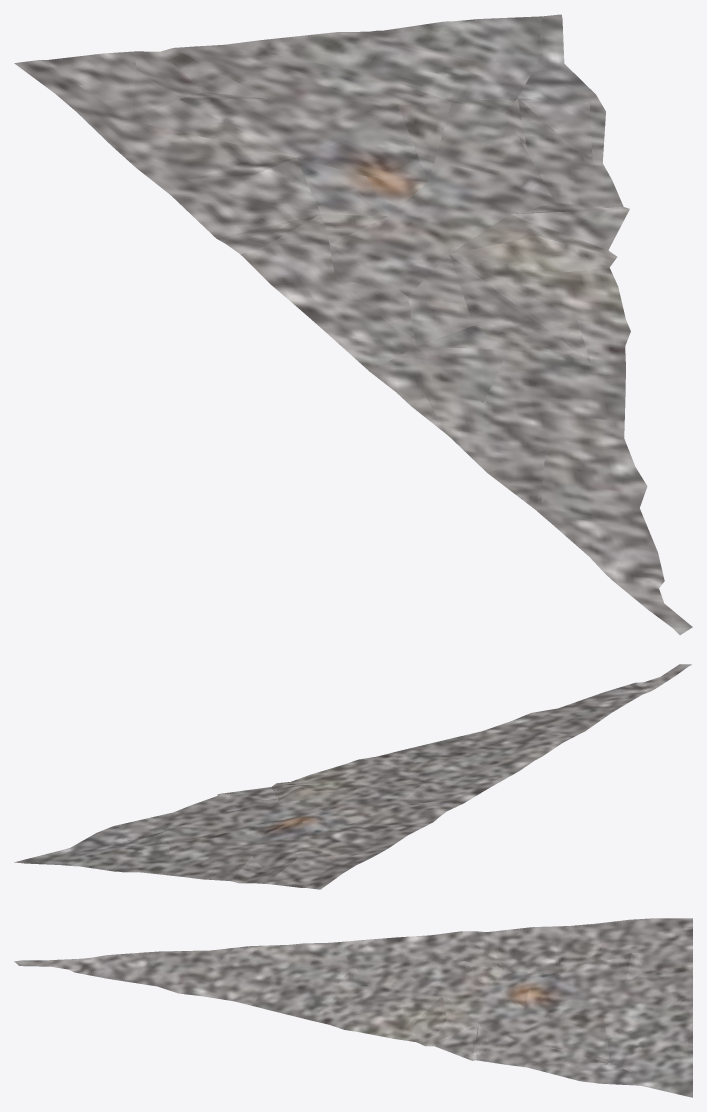
The picture shows the model from 3 angles, top to bottom: view 1: azimuth 30°, elevation 25°; view 2: azimuth 150°, elevation 25°; view 3: azimuth 270°, elevation 25°; orthographic projection. The views are drawn at different scales.
Bounding box in the file's own units: 0.3786 × 0.0561 × 0.7973.
Materials: 1 (1 with a texture image).
